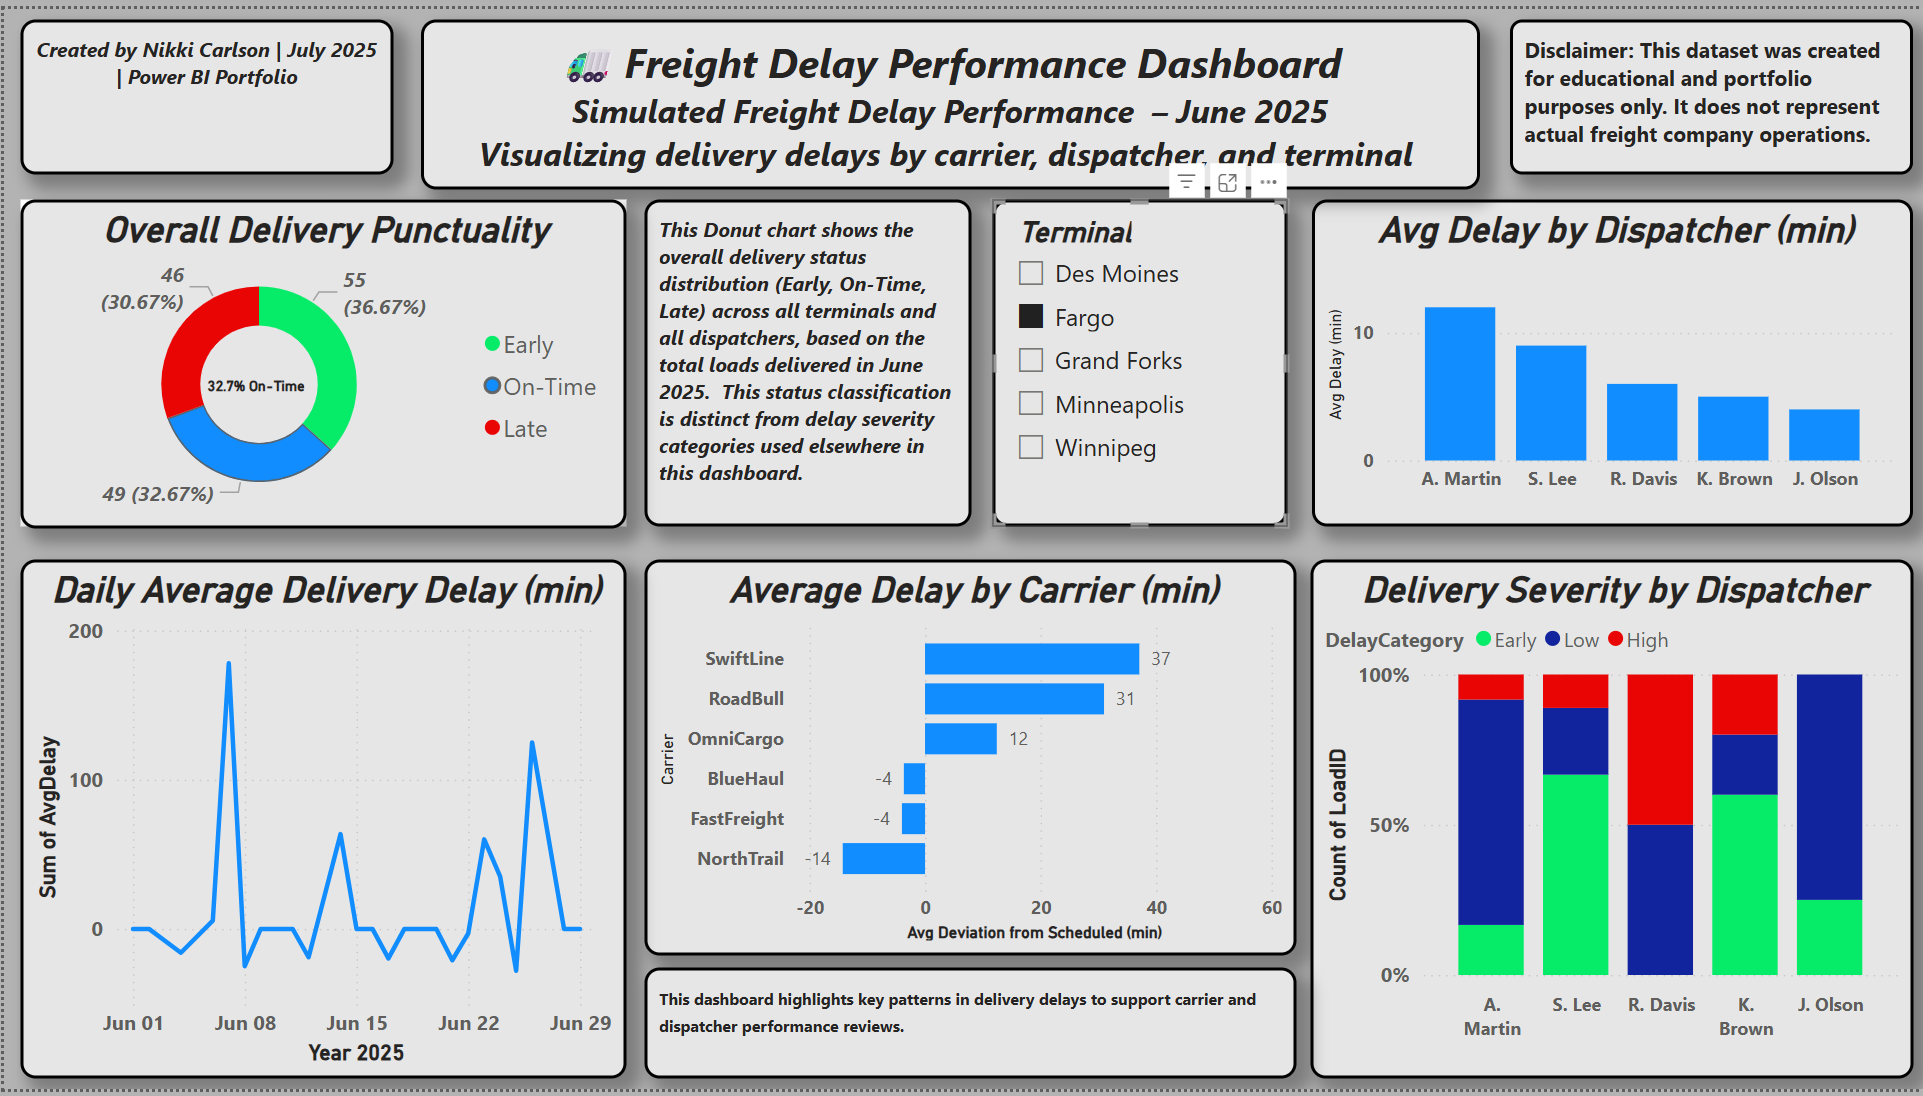

Layout of this report page (visuals, bound fields, positions):
{"tool":"powerbi","page":{"name":"Page 1","canvas":[1280,720],"ordinal":0},"visuals":[{"type":"clusteredBarChart","title":"Average Delay by Carrier (min)","fields":{"Y":["Sum(carrier_delay_summary_dax.AvgDelay)"],"Category":["carrier_delay_summary_dax.Carrier"]},"box":[427.1,366.7,434.6,264.4],"z":0},{"type":"clusteredColumnChart","title":"Avg Delay by Dispatcher (min)","fields":{"Category":["dispatcher_delay_summary_dax.Dispatcher"],"Y":["Sum(dispatcher_delay_summary_dax.TotalLoads)"]},"box":[871.7,126.6,401.6,218.9],"z":1000},{"type":"lineChart","title":"Daily Average Delivery Delay (min)","fields":{"Category":["daily_delay_trend_dax.DeliveryDate.Variation.Date Hierarchy.Year","daily_delay_trend_dax.DeliveryDate.Variation.Date Hierarchy.Quarter","daily_delay_trend_dax.DeliveryDate.Variation.Date Hierarchy.Month","daily_delay_trend_dax.DeliveryDate.Variation.Date Hierarchy.Day"],"Y":["Sum(daily_delay_trend_dax.AvgDelay)"]},"box":[10.6,366.7,404.1,346.1],"z":2000},{"type":"textbox","box":[278.1,6.9,705.9,112.9],"z":3000},{"type":"hundredPercentStackedColumnChart","title":"Delivery Severity by Dispatcher","fields":{"Category":["freight_delay_data.Dispatcher"],"Y":["CountNonNull(freight_delay_data.LoadID)"],"Series":["DelayCategoryLookup.DelayCategory"]},"box":[871.1,366.7,402.2,346.1],"z":4000},{"type":"textbox","box":[427.1,126.6,217.6,218.9],"z":5000},{"type":"textbox","box":[1003.9,6.9,269.4,102.9],"z":6000},{"type":"slicer","fields":{"Values":["TerminalTable.Terminal"]},"box":[659.1,126.6,197,218.9],"z":7000},{"type":"donutChart","title":"Overall Delivery Punctuality","fields":{"Category":["on_time_breakdown.Status"],"Y":["Sum(on_time_breakdown.TotalLoads)"]},"box":[10.6,126.6,404.1,218.9],"z":7500,"group":"g1"},{"type":"cardVisual","fields":{"Data":["on_time_breakdown.OnTimeLabel"]},"box":[95,215.4,146.5,61.7],"z":7750,"group":"g1"},{"type":"textbox","box":[10.6,6.9,249.4,102.9],"z":8000},{"type":"group","id":"g1","title":"Group 1","box":[10.6,126.6,404.1,218.9],"z":9000},{"type":"textbox","box":[427.1,638.5,434.6,74.2],"z":10000}]}

Visuals, with their boxes in screenshot pixels (x1, y1, x2, y2), scaled from the page's 1280x720 canvas onto the 1923x1096 screenshot:
"Average Delay by Carrier (min)" clusteredBarChart: (642,558,1295,961)
"Avg Delay by Dispatcher (min)" clusteredColumnChart: (1310,193,1913,526)
"Daily Average Delivery Delay (min)" lineChart: (16,558,623,1085)
textbox: (418,11,1478,182)
"Delivery Severity by Dispatcher" hundredPercentStackedColumnChart: (1309,558,1913,1085)
textbox: (642,193,969,526)
textbox: (1508,11,1913,167)
slicer - TerminalTable.Terminal: (990,193,1286,526)
"Overall Delivery Punctuality" donutChart: (16,193,623,526)
cardVisual - on_time_breakdown.OnTimeLabel: (143,328,363,422)
textbox: (16,11,391,167)
"Group 1" group: (16,193,623,526)
textbox: (642,972,1295,1085)
